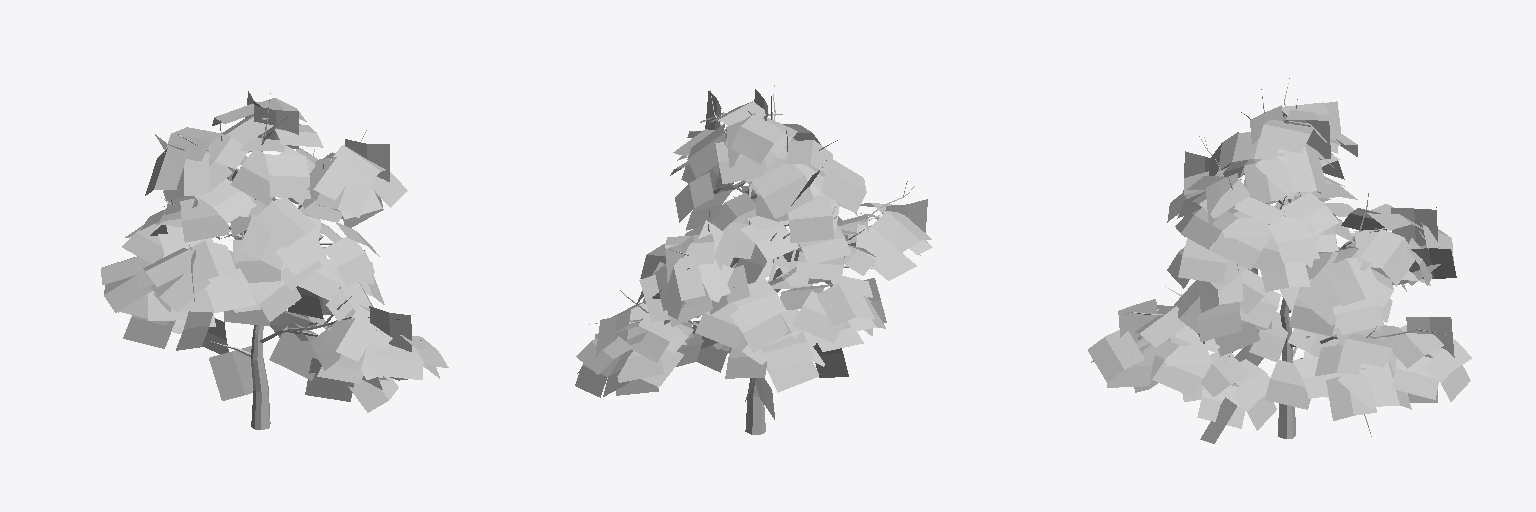
File: tree2b_lod1.obj
The picture shows the model from 3 angles: view 1: azimuth 30°, elevation 25°; view 2: azimuth 150°, elevation 25°; view 3: azimuth 270°, elevation 25°; orthographic projection.
Visible parts, largest first — view 1: leaves 0.0 0.[number redacted] 0.0 0 0 0 0.[number redacted] 0.[number redacted], bark 0.[number redacted] -0.[number redacted] -0.[number redacted]; view 2: leaves 0.0 0.[number redacted] 0.0 0 0 0 0.[number redacted] 0.[number redacted], bark 0.[number redacted] -0.[number redacted] -0.[number redacted]; view 3: leaves 0.0 0.[number redacted] 0.0 0 0 0 0.[number redacted] 0.[number redacted], bark 0.[number redacted] -0.[number redacted] -0.[number redacted].
Part boxes in pixels (x1,y1,x2,y2): leaves 0.0 0.[number redacted] 0.0 0 0 0 0.[number redacted] 0.[number redacted]: (101,91,448,412); bark 0.[number redacted] -0.[number redacted] -0.[number redacted]: (161,93,412,429); leaves 0.0 0.[number redacted] 0.0 0 0 0 0.[number redacted] 0.[number redacted]: (575,89,932,419); bark 0.[number redacted] -0.[number redacted] -0.[number redacted]: (589,85,914,434); leaves 0.0 0.[number redacted] 0.0 0 0 0 0.[number redacted] 0.[number redacted]: (1088,101,1471,443); bark 0.[number redacted] -0.[number redacted] -0.[number redacted]: (1125,78,1445,438).
Bounding box in the file's own units: 0.7894 × 1 × 1.